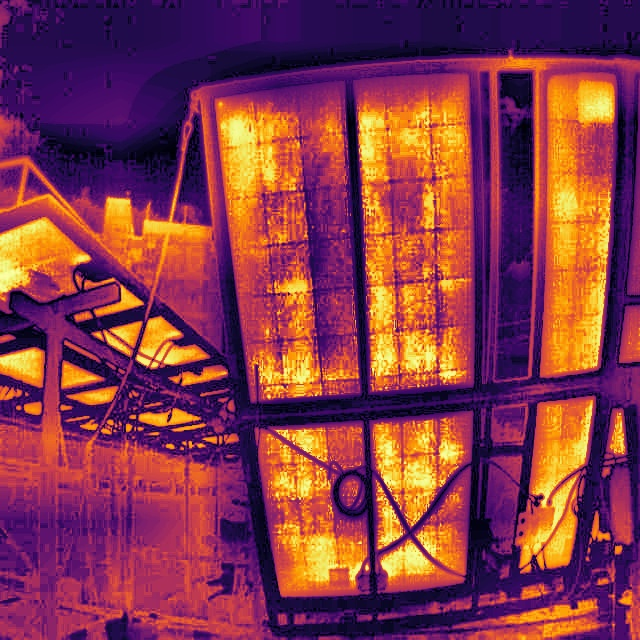Hotspot: (579, 74, 613, 121)
Moderate: (579, 74, 613, 121)
healthy_panel: (216, 82, 359, 401), (355, 76, 474, 392), (540, 71, 613, 374), (259, 422, 368, 592), (372, 412, 472, 591), (529, 396, 594, 509), (547, 520, 574, 566)
